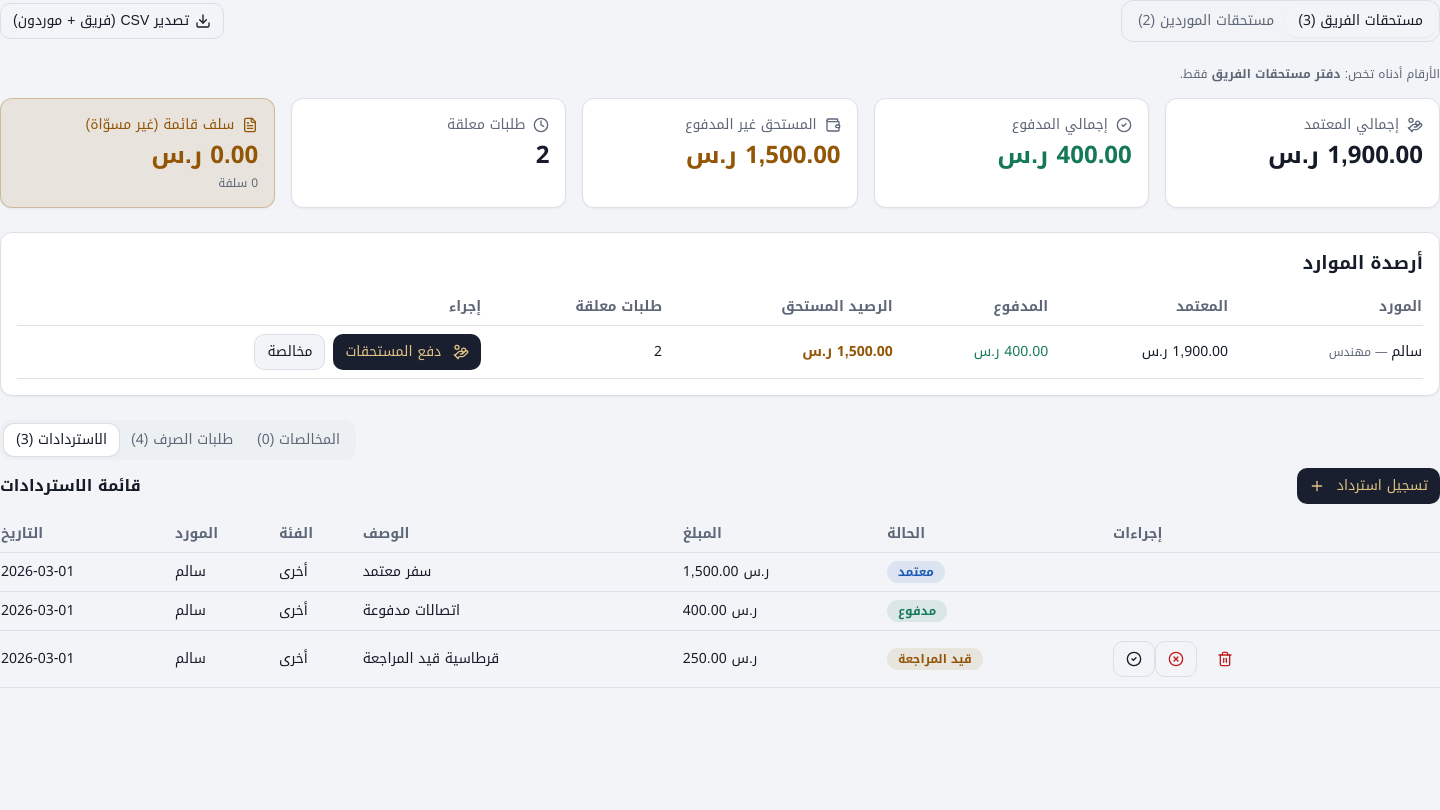
Test: creating a request from approved reimbursements › only counts the rows that are ticked
Click the button "دفع المستحقات" at (407, 352), box x1=334 y1=334 x2=481 y2=370
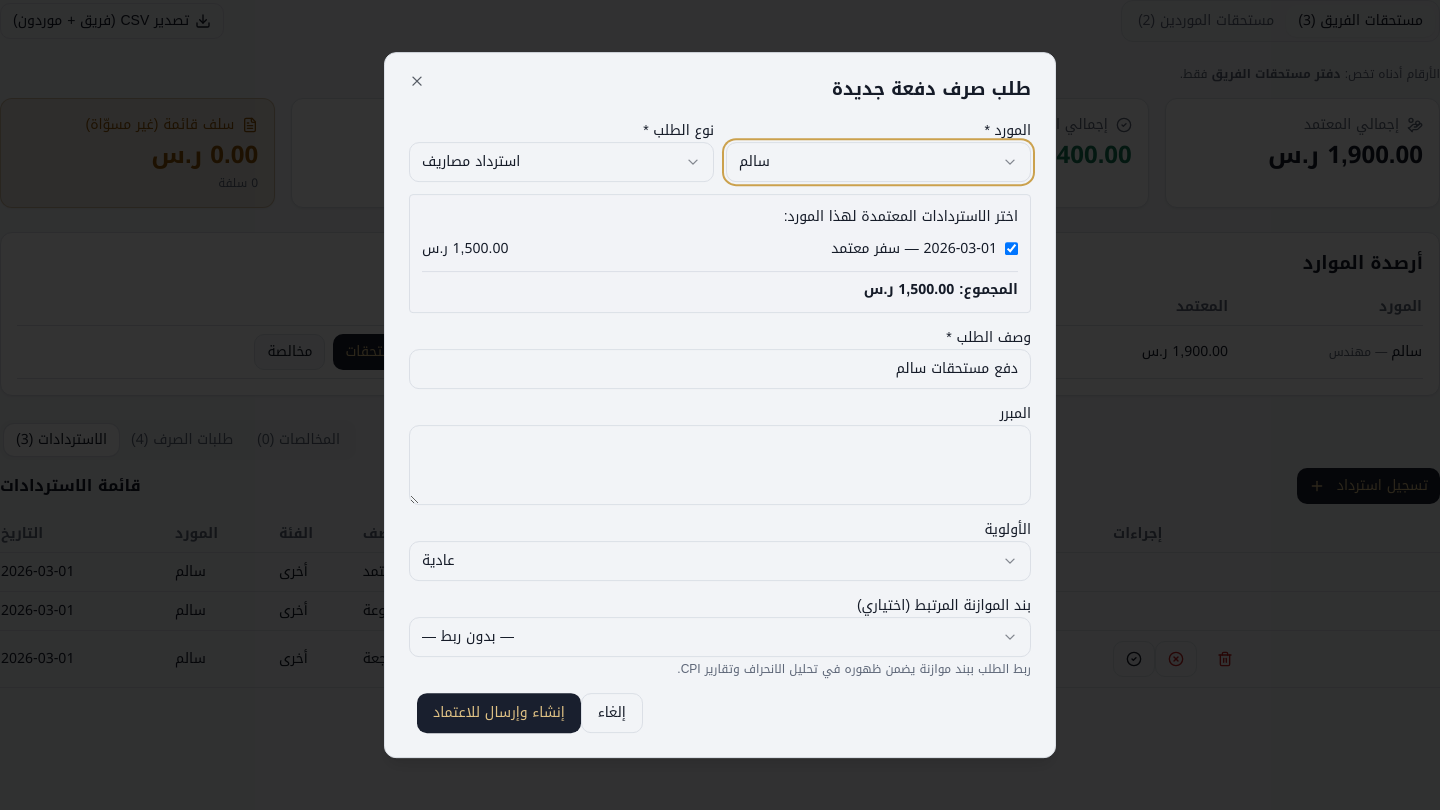
Click the checkbox at (1012, 249), box x1=1005 y1=242 x2=1018 y2=255
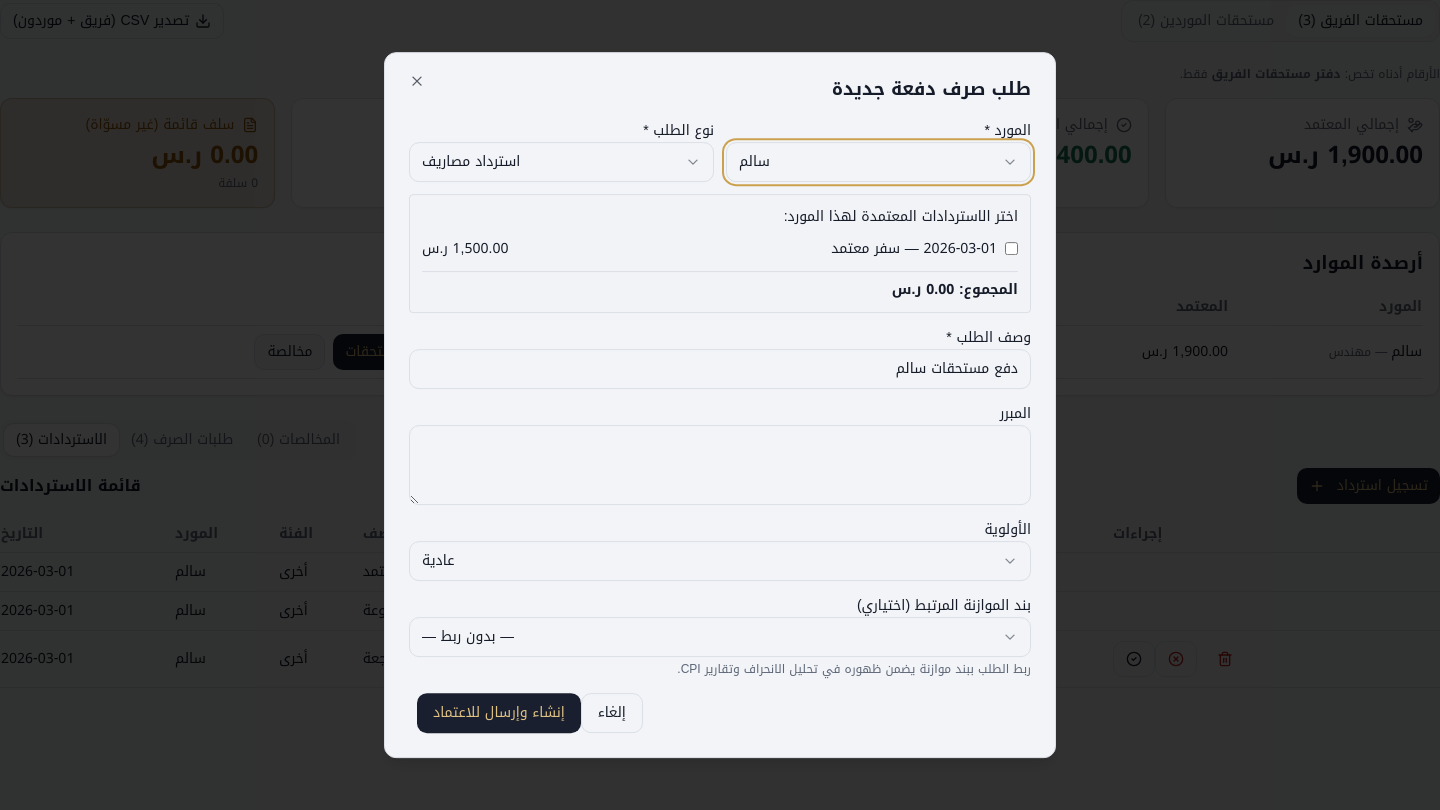
Result: the text "المجموع: 0.00 ر.س" is shown at x1=422 y1=271 x2=1018 y2=300
